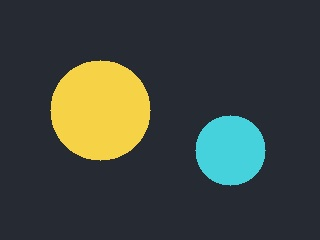circle: (51, 61, 150, 160), (196, 116, 265, 185)
